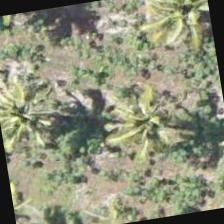Kelapa_Sawit: (94, 72, 196, 174), (0, 62, 77, 163), (136, 0, 216, 60)
